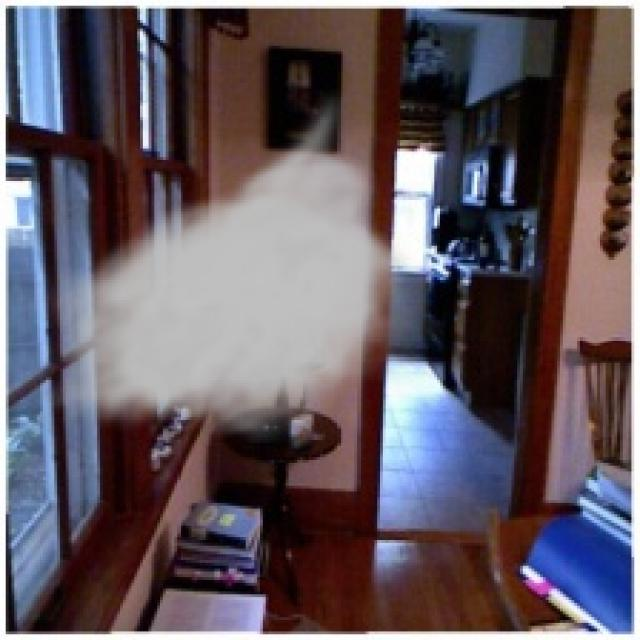smoke: (34, 86, 420, 443)
